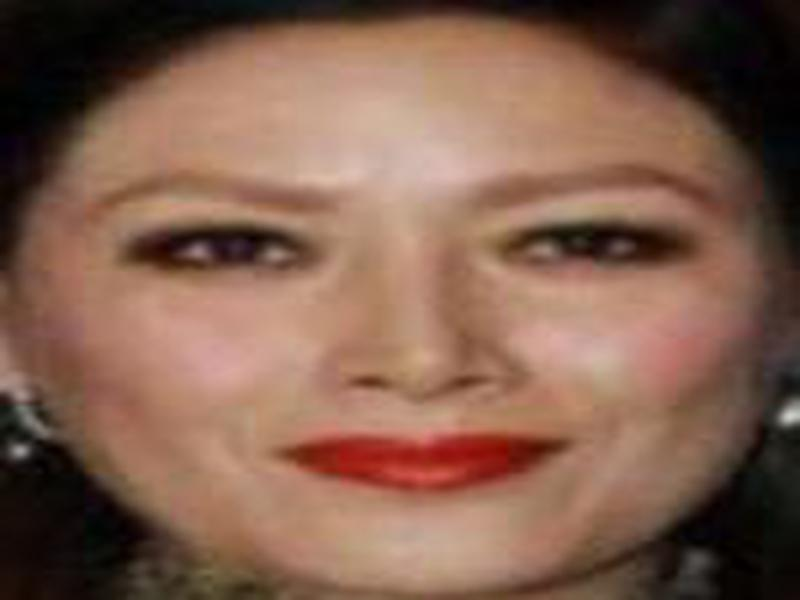without_mask: (23, 16, 774, 600)
